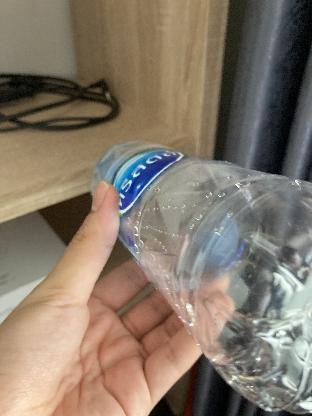Plastic Bottle: (82, 134, 312, 416)
